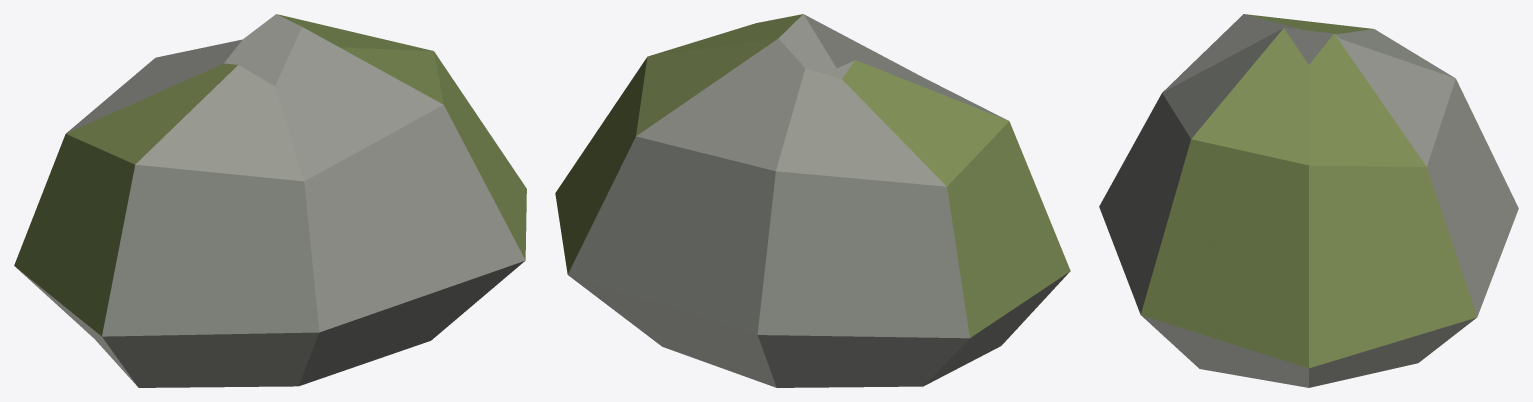
The model's file is boulder.glb.
3 renders of one model, left to right at view 1: azimuth 30°, elevation 25°; view 2: azimuth 150°, elevation 25°; view 3: azimuth 270°, elevation 25°, orthographic.
Visible parts, largest first — view 1: prop_boulder_LOD0; view 2: prop_boulder_LOD0; view 3: prop_boulder_LOD0.
Boxes of the visible parts, x1,y1,x2,y2 form: prop_boulder_LOD0: (14, 14, 526, 387); prop_boulder_LOD0: (555, 14, 1070, 387); prop_boulder_LOD0: (1099, 14, 1518, 387).
Size of the model in its own units: 1.87 by 1.15 by 1.46.
